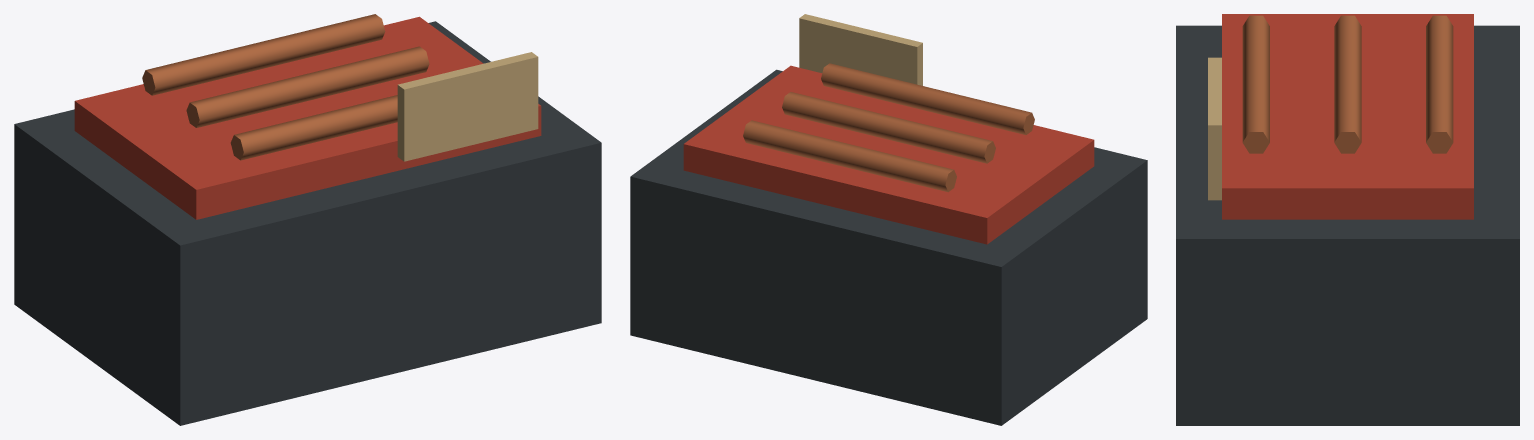
Rendered from electrical_repair_kit.glb.
3 renders of one model, left to right at view 1: azimuth 30°, elevation 25°; view 2: azimuth 150°, elevation 25°; view 3: azimuth 270°, elevation 25°, orthographic. The views are drawn at different scales.
Visible parts, largest first — view 1: electrical_repair_kit; view 2: electrical_repair_kit; view 3: electrical_repair_kit.
Part boxes in pixels (x1=…): electrical_repair_kit: x1=14, y1=14, x2=601, y2=425; electrical_repair_kit: x1=630, y1=14, x2=1147, y2=425; electrical_repair_kit: x1=1176, y1=14, x2=1519, y2=425.
Size of the model in its own units: 0.11 by 0.0665 by 0.075.
